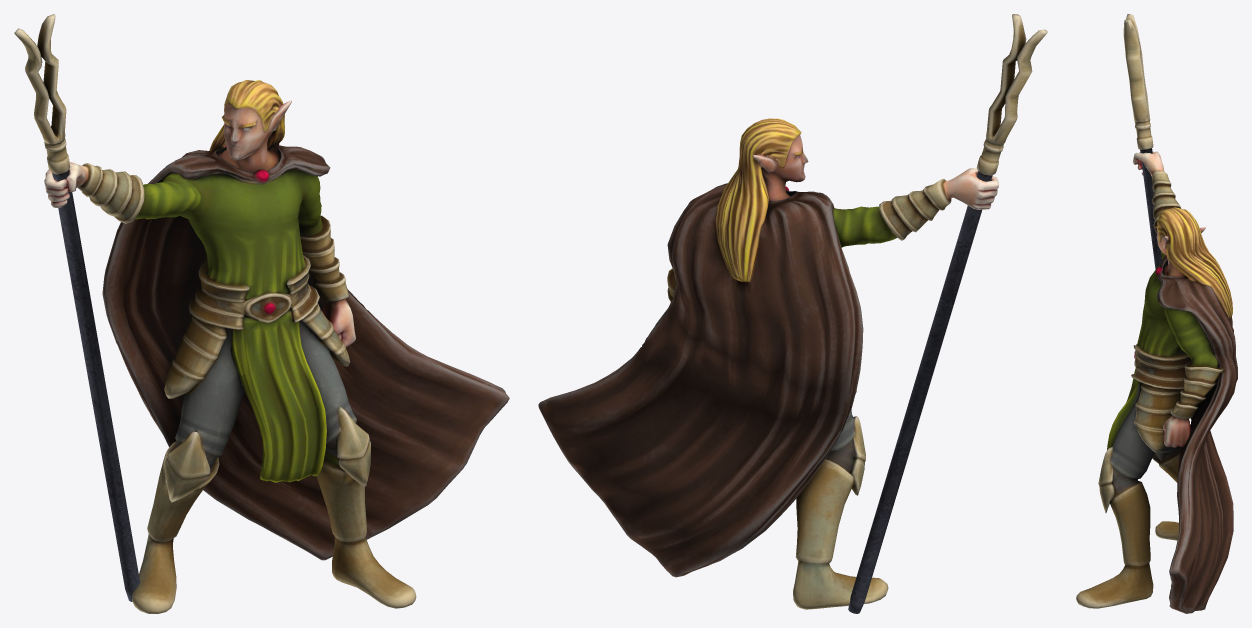
Rendered from Elf mage.glb.
3 views of the same model, side by side, from view 1: azimuth 30°, elevation 25°; view 2: azimuth 150°, elevation 25°; view 3: azimuth 270°, elevation 25° (orthographic). The views are drawn at different scales.
Parts seen in each view (by area): view 1: body_low.001, staff_low.001; view 2: body_low.001, staff_low.001; view 3: body_low.001, staff_low.001.
Boxes of the visible parts, bbox=[...] form: body_low.001: bbox=[44, 80, 509, 613]; staff_low.001: bbox=[14, 14, 139, 601]; body_low.001: bbox=[538, 118, 998, 609]; staff_low.001: bbox=[848, 14, 1047, 613]; body_low.001: bbox=[1076, 151, 1237, 613]; staff_low.001: bbox=[1123, 14, 1162, 269].
Bounding box in the file's own units: 6.64 × 7.95 × 2.45.
1 material, 1 textured.
